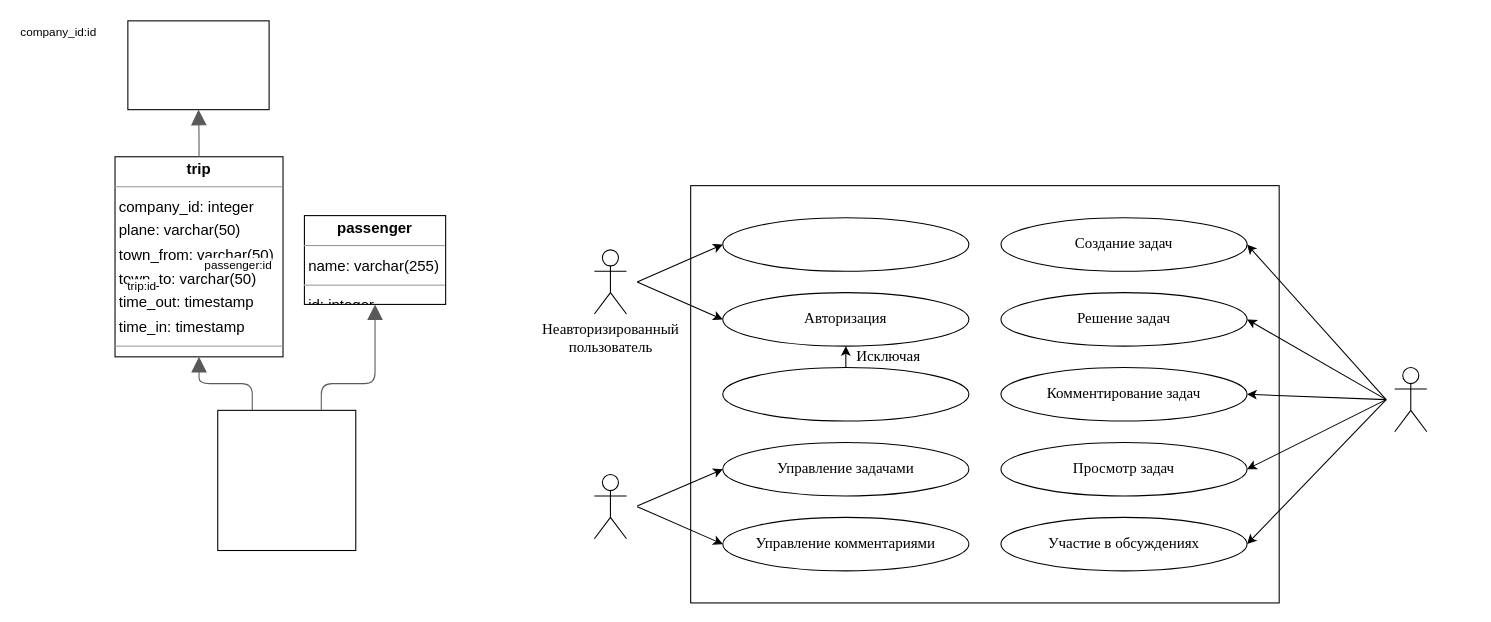
This 1491x622 diagram has some shape labels left out. Here are the shapes that lost their labels. From the top down, the centre of each, then its label:
point (198, 65): company name: varchar(255) id: integer
point (845, 244): Регистрация
point (845, 393): Неверный логин/пароль
point (1410, 399): Авторизированный пользователь
point (286, 480): pass_in_trip trip: integer passenger: integer place: varchar(10) id: integer
point (609, 506): Администратор
